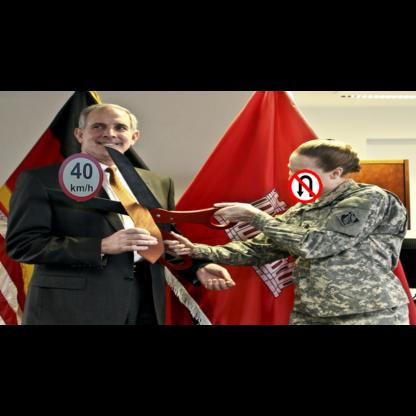R-19: (58, 152, 103, 201)
R-5a: (288, 169, 322, 203)
